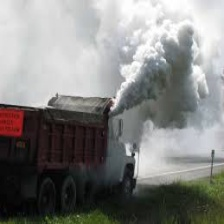smoke: (110, 10, 209, 129)
